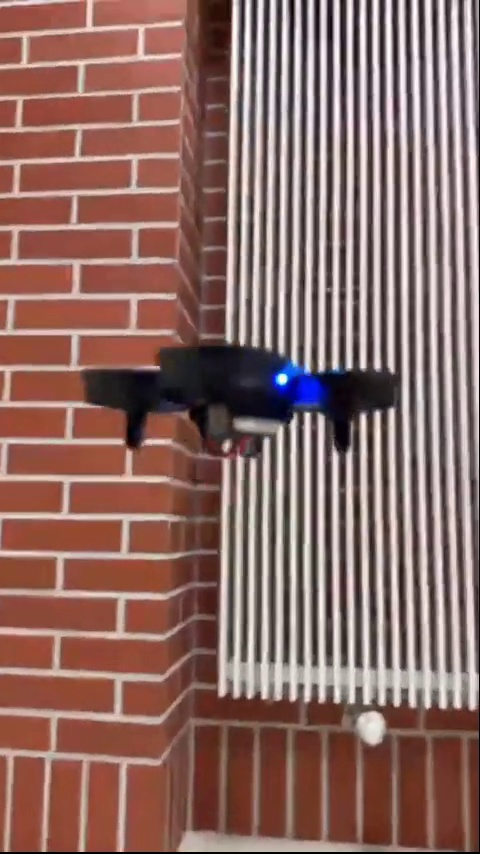drone: (77, 341, 403, 457)
